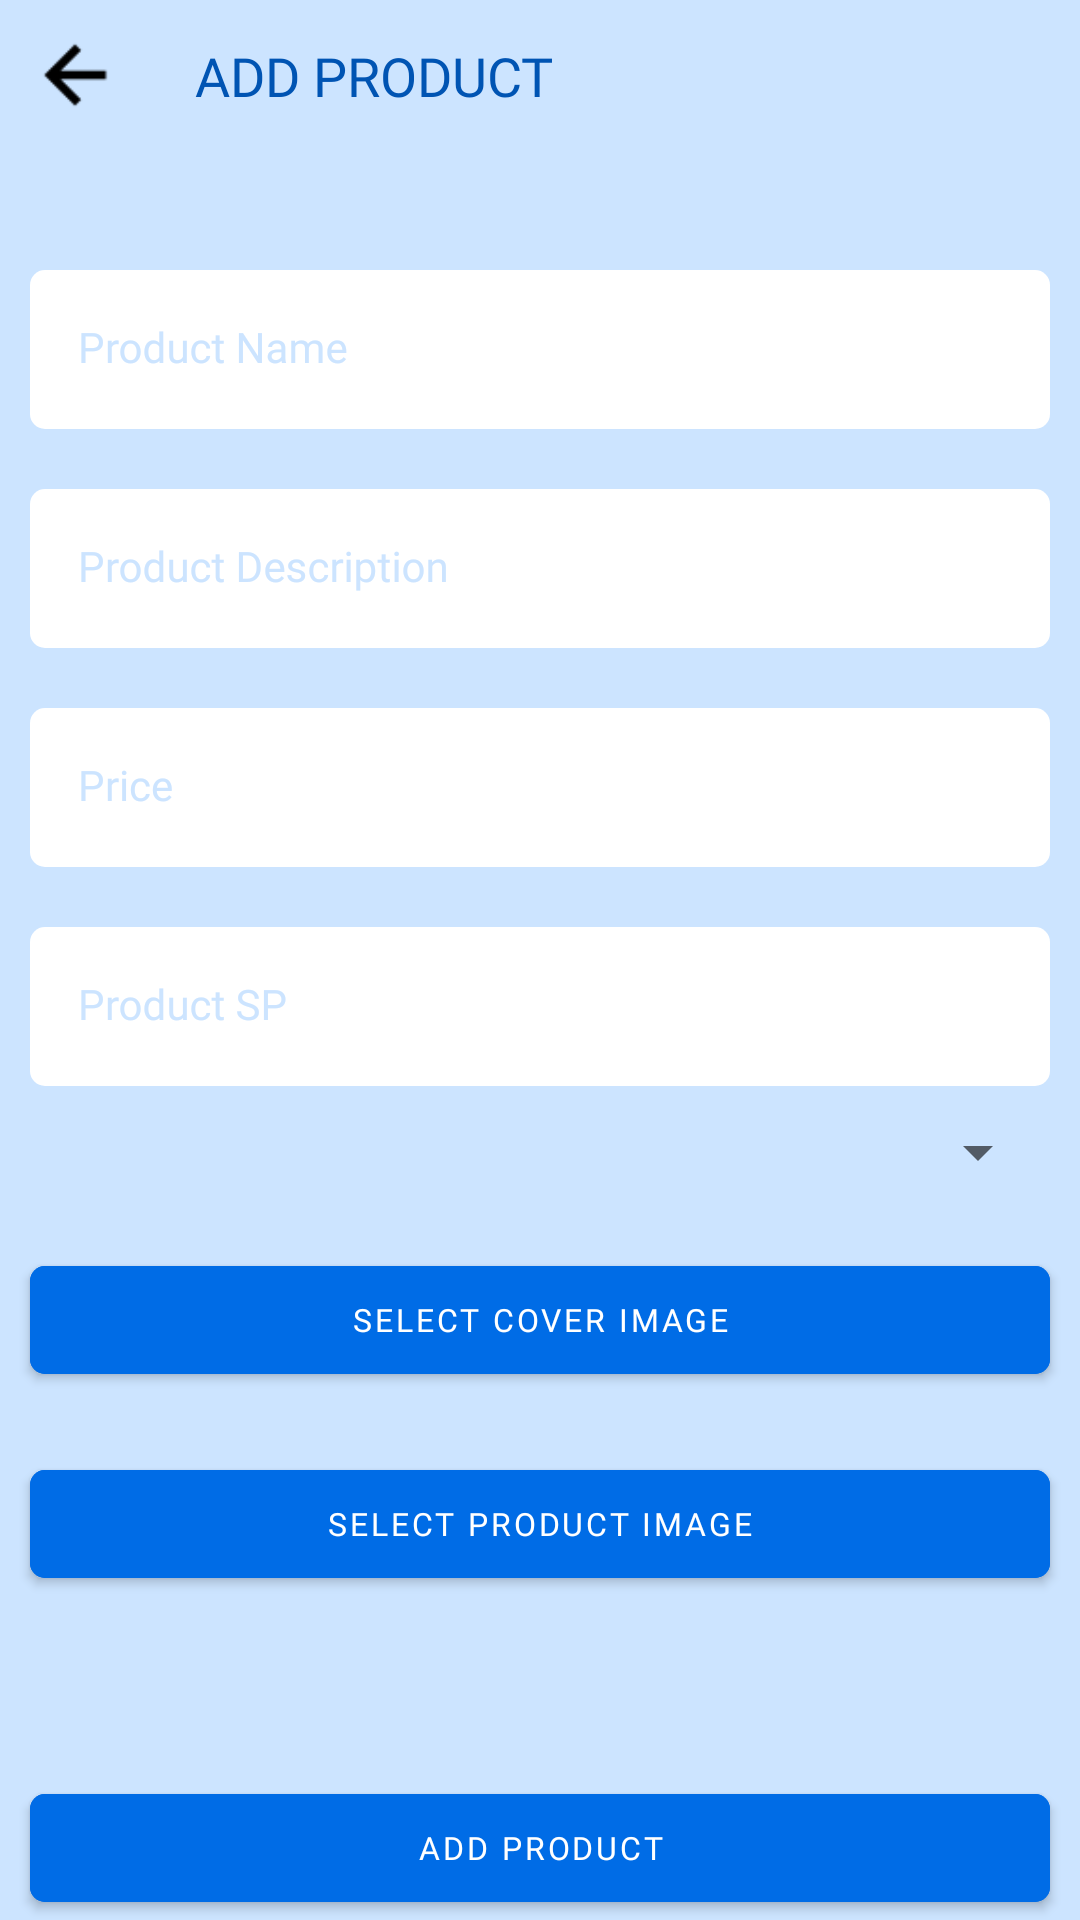

Icons on this 1080 x 1920 Android screen, each with the point to tap as (x=x, y=y):
arrow back: (x=75, y=75)
